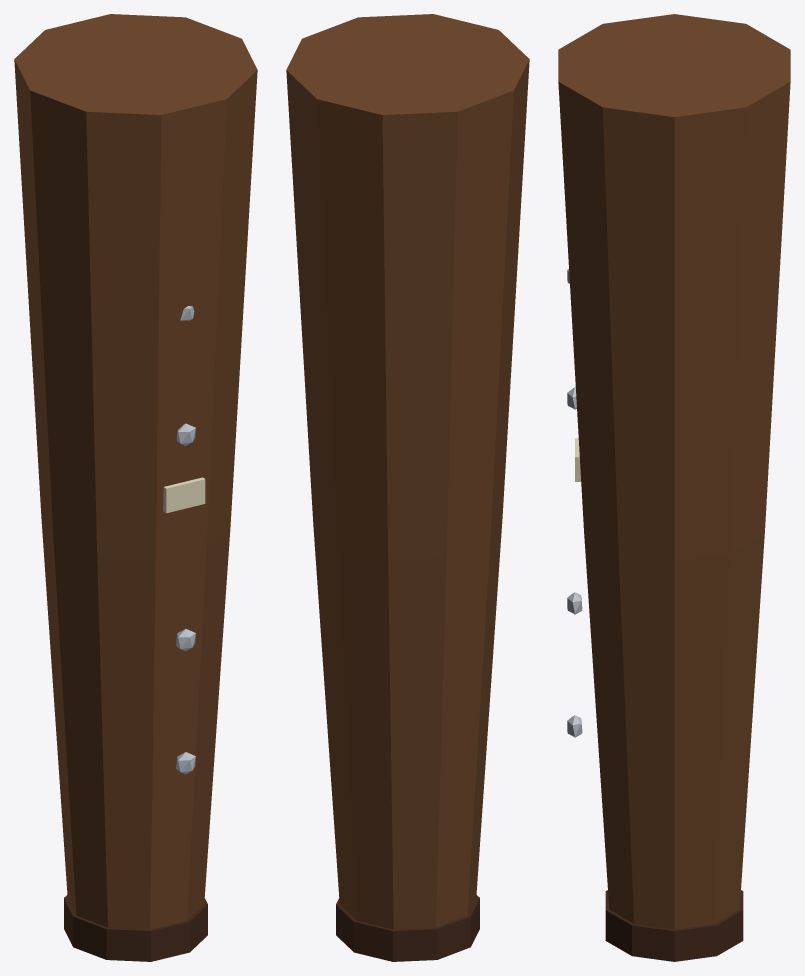
The model's file is gear_studded_chaps_leg_r.glb.
3 views of the same model, side by side, from view 1: azimuth 30°, elevation 25°; view 2: azimuth 150°, elevation 25°; view 3: azimuth 270°, elevation 25° (orthographic).
Parts seen in each view (by area): view 1: gear_studded_chaps_leg_r; view 2: gear_studded_chaps_leg_r; view 3: gear_studded_chaps_leg_r.
Part boxes in pixels (x1=…): gear_studded_chaps_leg_r: x1=14, y1=14, x2=257, y2=961; gear_studded_chaps_leg_r: x1=286, y1=14, x2=529, y2=961; gear_studded_chaps_leg_r: x1=558, y1=14, x2=790, y2=961.
Bounding box in the file's own units: 0.216 × 0.845 × 0.2054.
